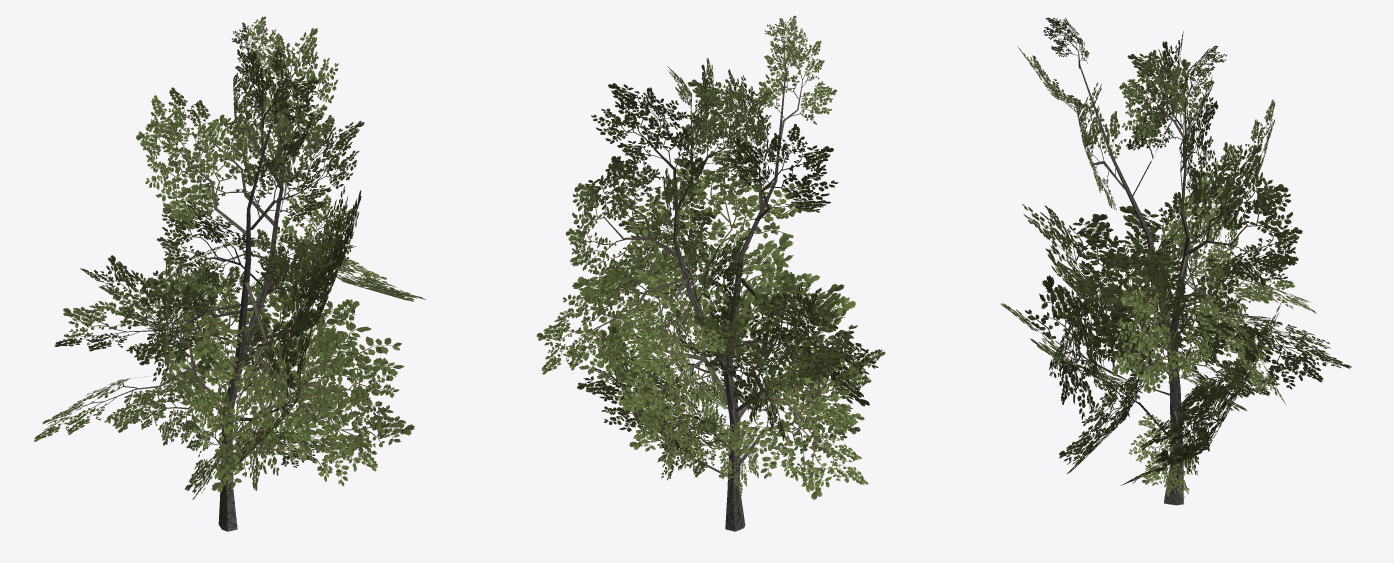
File: tree_4.fbx
3 views of the same model, side by side, from view 1: azimuth 30°, elevation 25°; view 2: azimuth 150°, elevation 25°; view 3: azimuth 270°, elevation 25° (orthographic). The views are drawn at different scales.
Parts seen in each view (by area): view 1: Tree-01-4_3; view 2: Tree-01-4_3; view 3: Tree-01-4_3.
Boxes of the visible parts, x1,y1,x2,y2 form: Tree-01-4_3: (34,16,425,531); Tree-01-4_3: (536,15,885,531); Tree-01-4_3: (1000,17,1351,505).
Size of the model in its own units: 472 by 541 by 402.
Materials: 6 (6 with a texture image).
